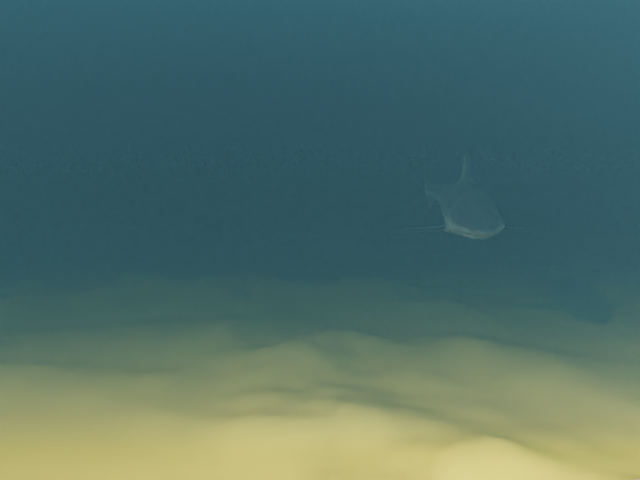Carribean Shark.001: (384, 145, 545, 239)
